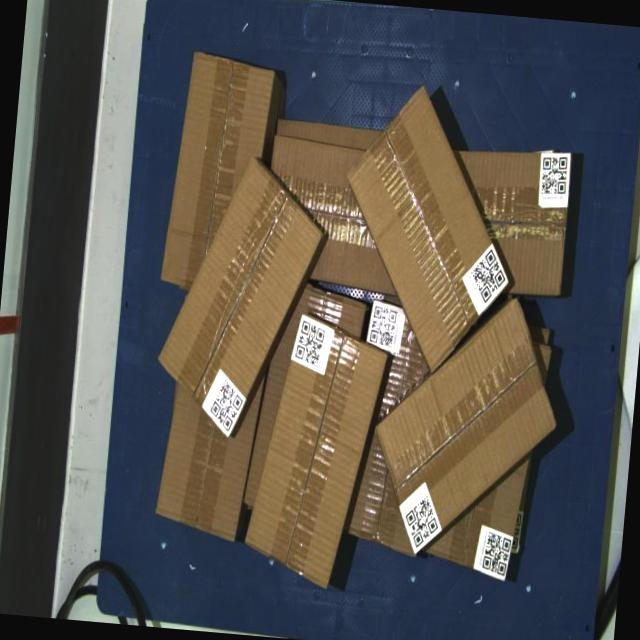box: (329, 77, 525, 379), (364, 285, 567, 566), (150, 149, 329, 446), (240, 308, 390, 592)
